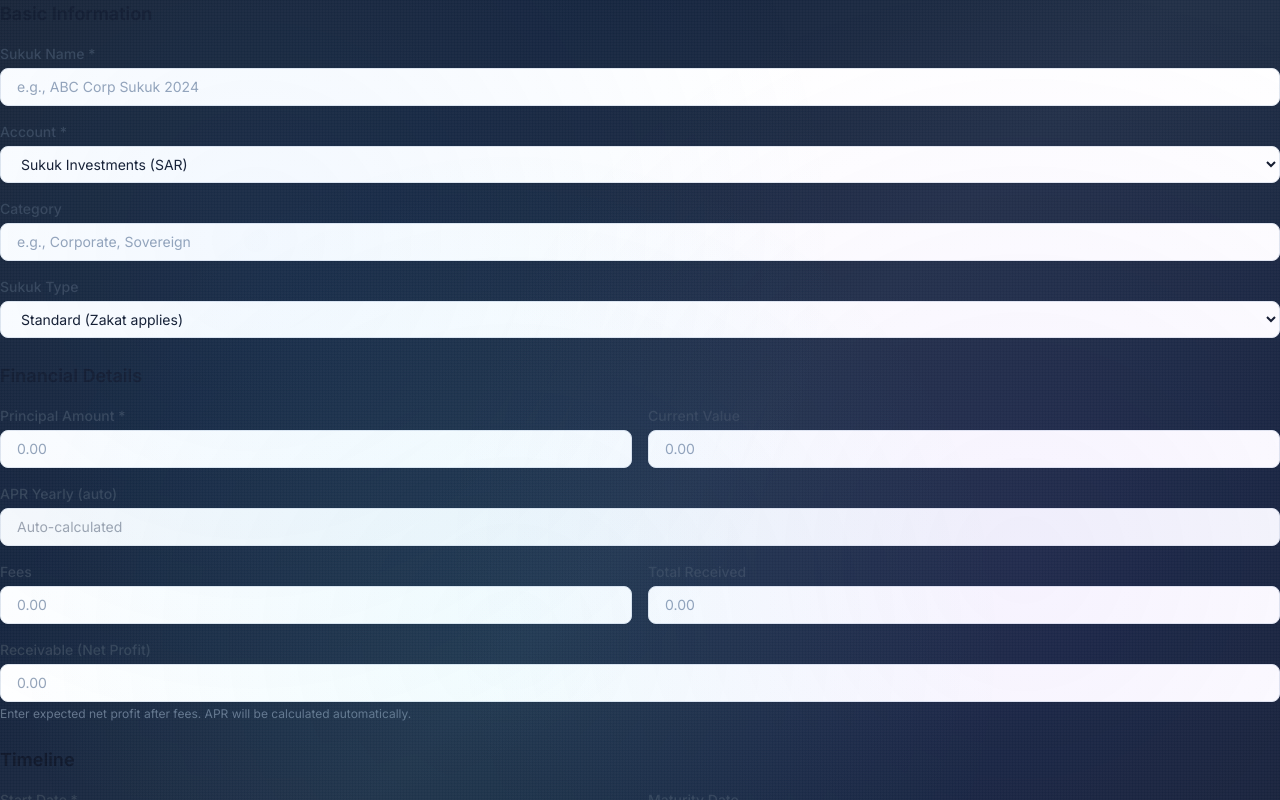
SukukForm Component › displays error message on API failure
The image size is (1280, 800).
Note: Fill in required fields
Type "Test Sukuk" into the field labelled "Sukuk Name *" at (640, 87), box [0, 68, 1279, 106]
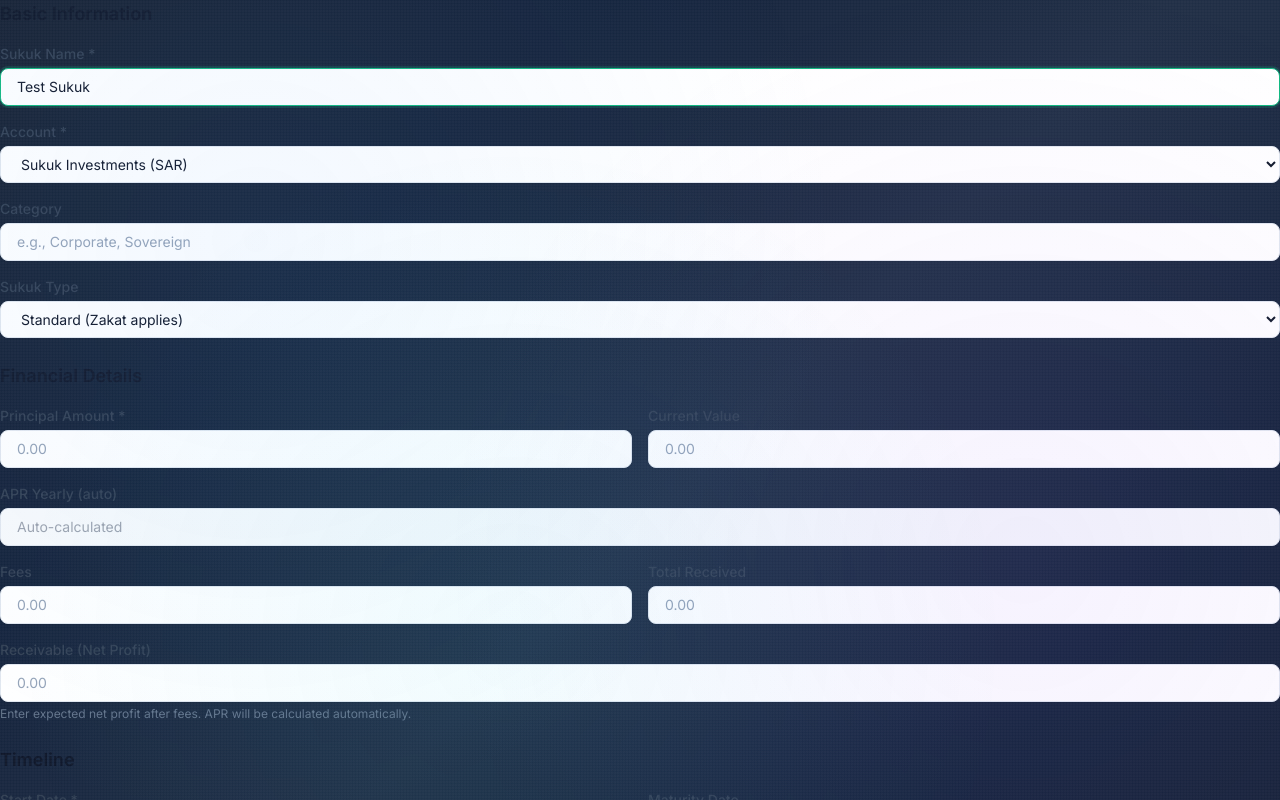
Select "Sukuk Investments (SAR)" in the dropdown labelled "Account *" at (640, 164), box [0, 146, 1279, 183]
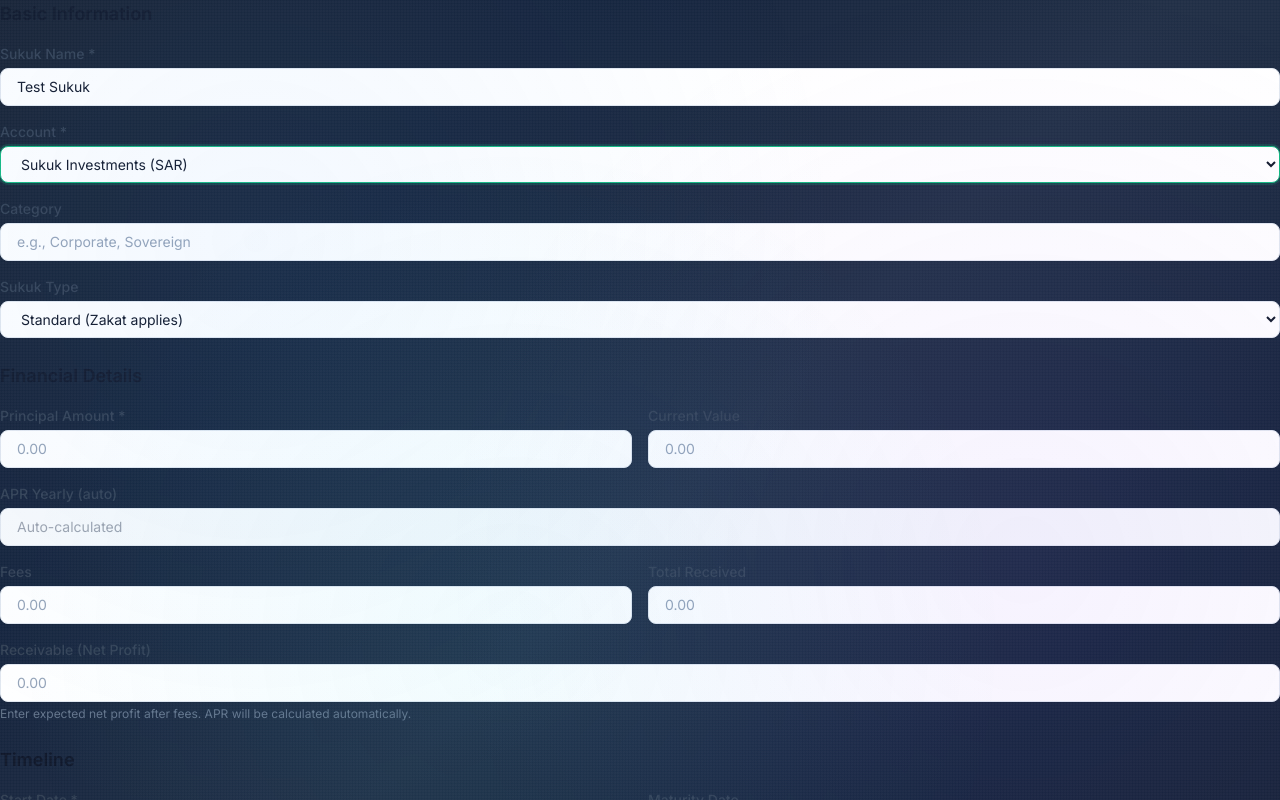
Type "100000" into the number field labelled "Principal Amount *" at (316, 449), box [0, 430, 632, 468]
(page scrolled)
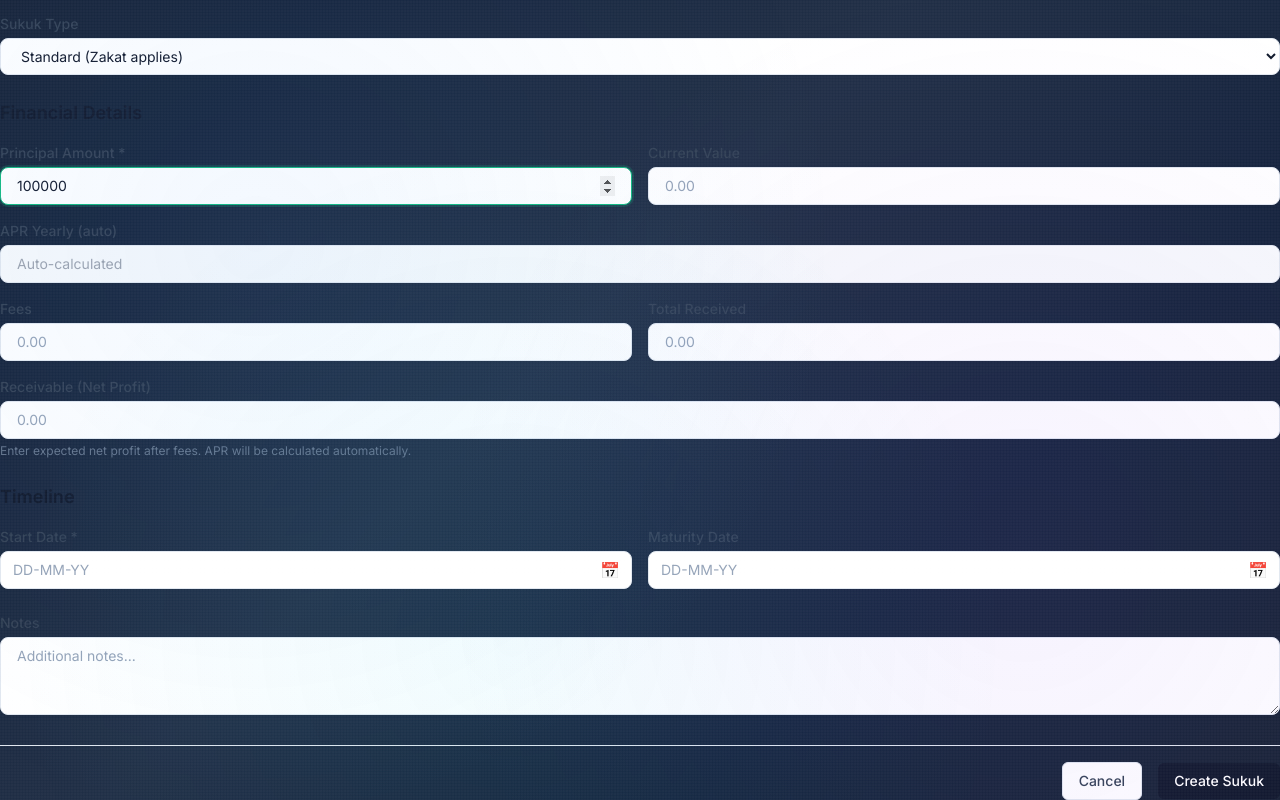
Type "01/01/2024" into the field labelled "Start Date *" at (316, 570), box [0, 551, 632, 589]
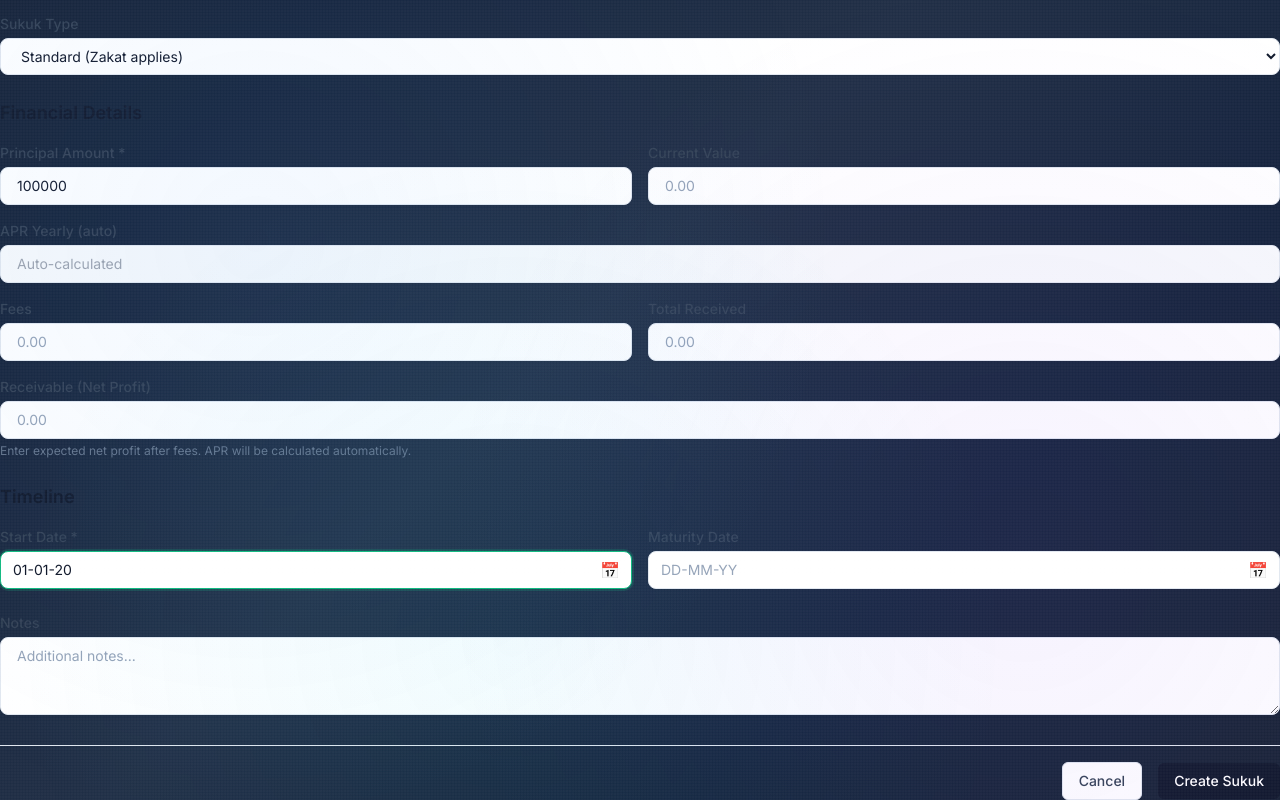
Note: Submit the form
Click the button "Create Sukuk" at (1219, 781), box [1158, 763, 1279, 799]
(page scrolled)
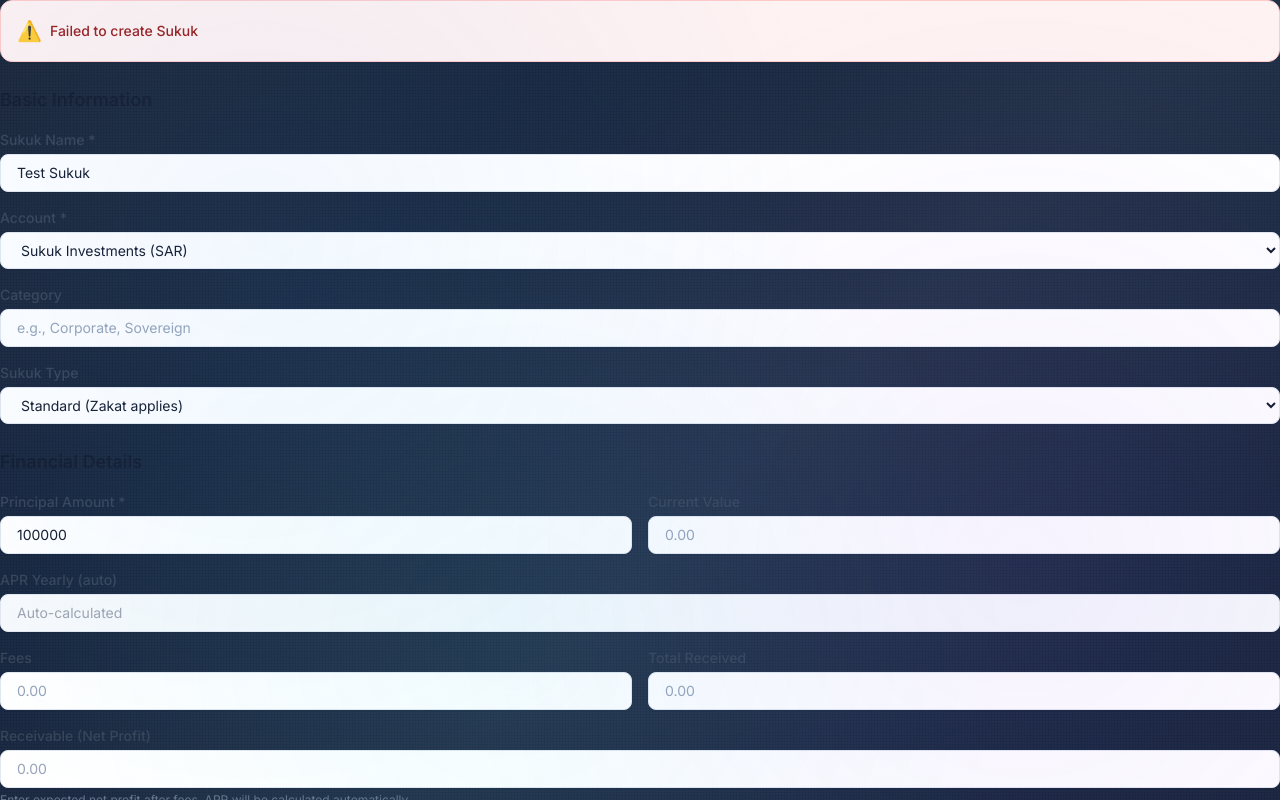
Now the text "Failed to create Sukuk" is shown, box [50, 21, 198, 41]
